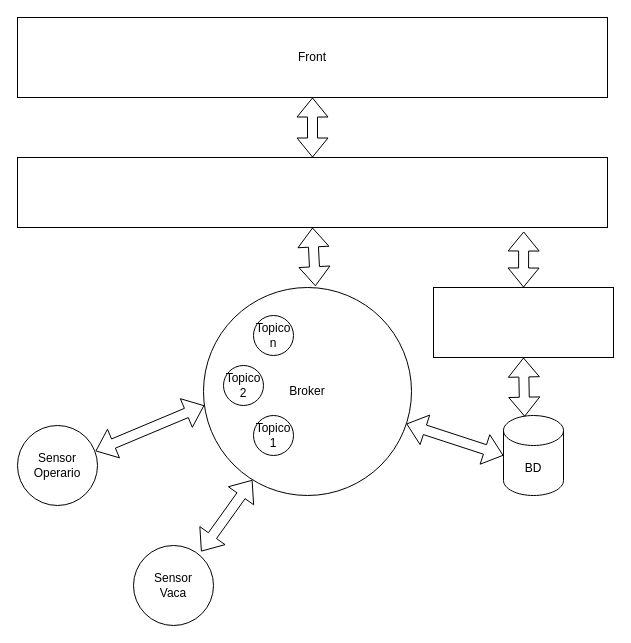
The diagram is 631 pixels wide and 643 high, and some of its shapes have lost their labels. The shapes that lost their labels are listed below. From the top down, each one's centre as x and y in pixels, then its label:
At pixel 312 192: "Back".
At pixel 523 322: "DBMS".
